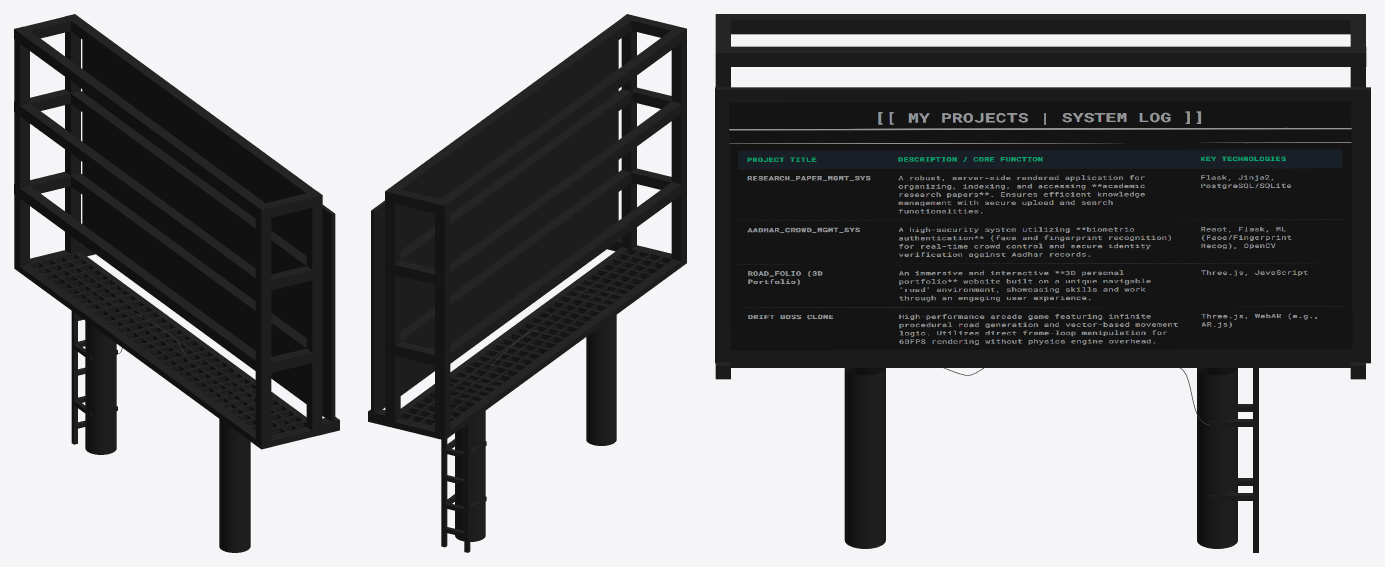
The model's file is billboard3.glb.
3 renders of one model, left to right at view 1: azimuth 30°, elevation 25°; view 2: azimuth 150°, elevation 25°; view 3: azimuth 270°, elevation 25°, orthographic. The views are drawn at different scales.
Visible parts, largest first — view 1: Cube_3, Cube.002_5, Cube.009_12, Cube.010_14, Cube.008_13, Cylinder.001_35, Cylinder.002_6, Cube.007_11, Cube.006_10, Cube.004_8, Cube.005_9, Cube.019_23 (+6 smaller); view 2: Cube_3, Cube.002_5, Cube.009_12, Cube.010_14, Cube.008_13, Cylinder.001_35, Cube.004_8, Cube.005_9, Cube.007_11, Cylinder.002_6, Cube.006_10, Cube.019_23 (+8 smaller); view 3: Plane_2, Cube_3, Cube.009_12, Cylinder.001_35, Cylinder.002_6, Cube.002_5, Cube.020_24, Cube.016_20.
Boxes of the visible parts, x1=… form: Cube_3: x1=82, y1=40, x2=335, y2=422; Cube.002_5: x1=20, y1=250, x2=312, y2=446; Cube.009_12: x1=14, y1=14, x2=322, y2=219; Cube.010_14: x1=14, y1=89, x2=306, y2=292; Cube.008_13: x1=14, y1=173, x2=310, y2=374; Cylinder.001_35: x1=219, y1=419, x2=250, y2=552; Cylinder.002_6: x1=85, y1=321, x2=116, y2=454; Cube.007_11: x1=255, y1=216, x2=271, y2=449; Cube.006_10: x1=306, y1=204, x2=322, y2=436; Cube.004_8: x1=14, y1=40, x2=29, y2=272; Cube.005_9: x1=65, y1=31, x2=80, y2=253; Cube.019_23: x1=71, y1=311, x2=77, y2=444; Cube_3: x1=371, y1=40, x2=618, y2=415; Cube.002_5: x1=395, y1=245, x2=681, y2=437; Cube.009_12: x1=385, y1=18, x2=686, y2=215; Cube.010_14: x1=385, y1=89, x2=686, y2=286; Cube.008_13: x1=385, y1=168, x2=686, y2=367; Cylinder.001_35: x1=586, y1=315, x2=616, y2=445; Cube.004_8: x1=435, y1=211, x2=450, y2=440; Cube.005_9: x1=385, y1=202, x2=400, y2=427; Cube.007_11: x1=671, y1=39, x2=686, y2=266; Cylinder.002_6: x1=455, y1=411, x2=485, y2=541; Cube.006_10: x1=621, y1=30, x2=636, y2=244; Cube.019_23: x1=464, y1=422, x2=470, y2=552; Plane_2: x1=729, y1=101, x2=1352, y2=350; Cube_3: x1=715, y1=87, x2=1370, y2=363; Cube.009_12: x1=716, y1=14, x2=1366, y2=66; Cylinder.001_35: x1=844, y1=368, x2=885, y2=548; Cylinder.002_6: x1=1197, y1=368, x2=1237, y2=548; Cube.002_5: x1=731, y1=363, x2=1350, y2=367; Cube.020_24: x1=1253, y1=368, x2=1258, y2=552; Cube.016_20: x1=715, y1=14, x2=730, y2=66.
Bounding box in the file's own units: 3.3 × 15.61 × 18.17.
4 materials, 1 textured.
